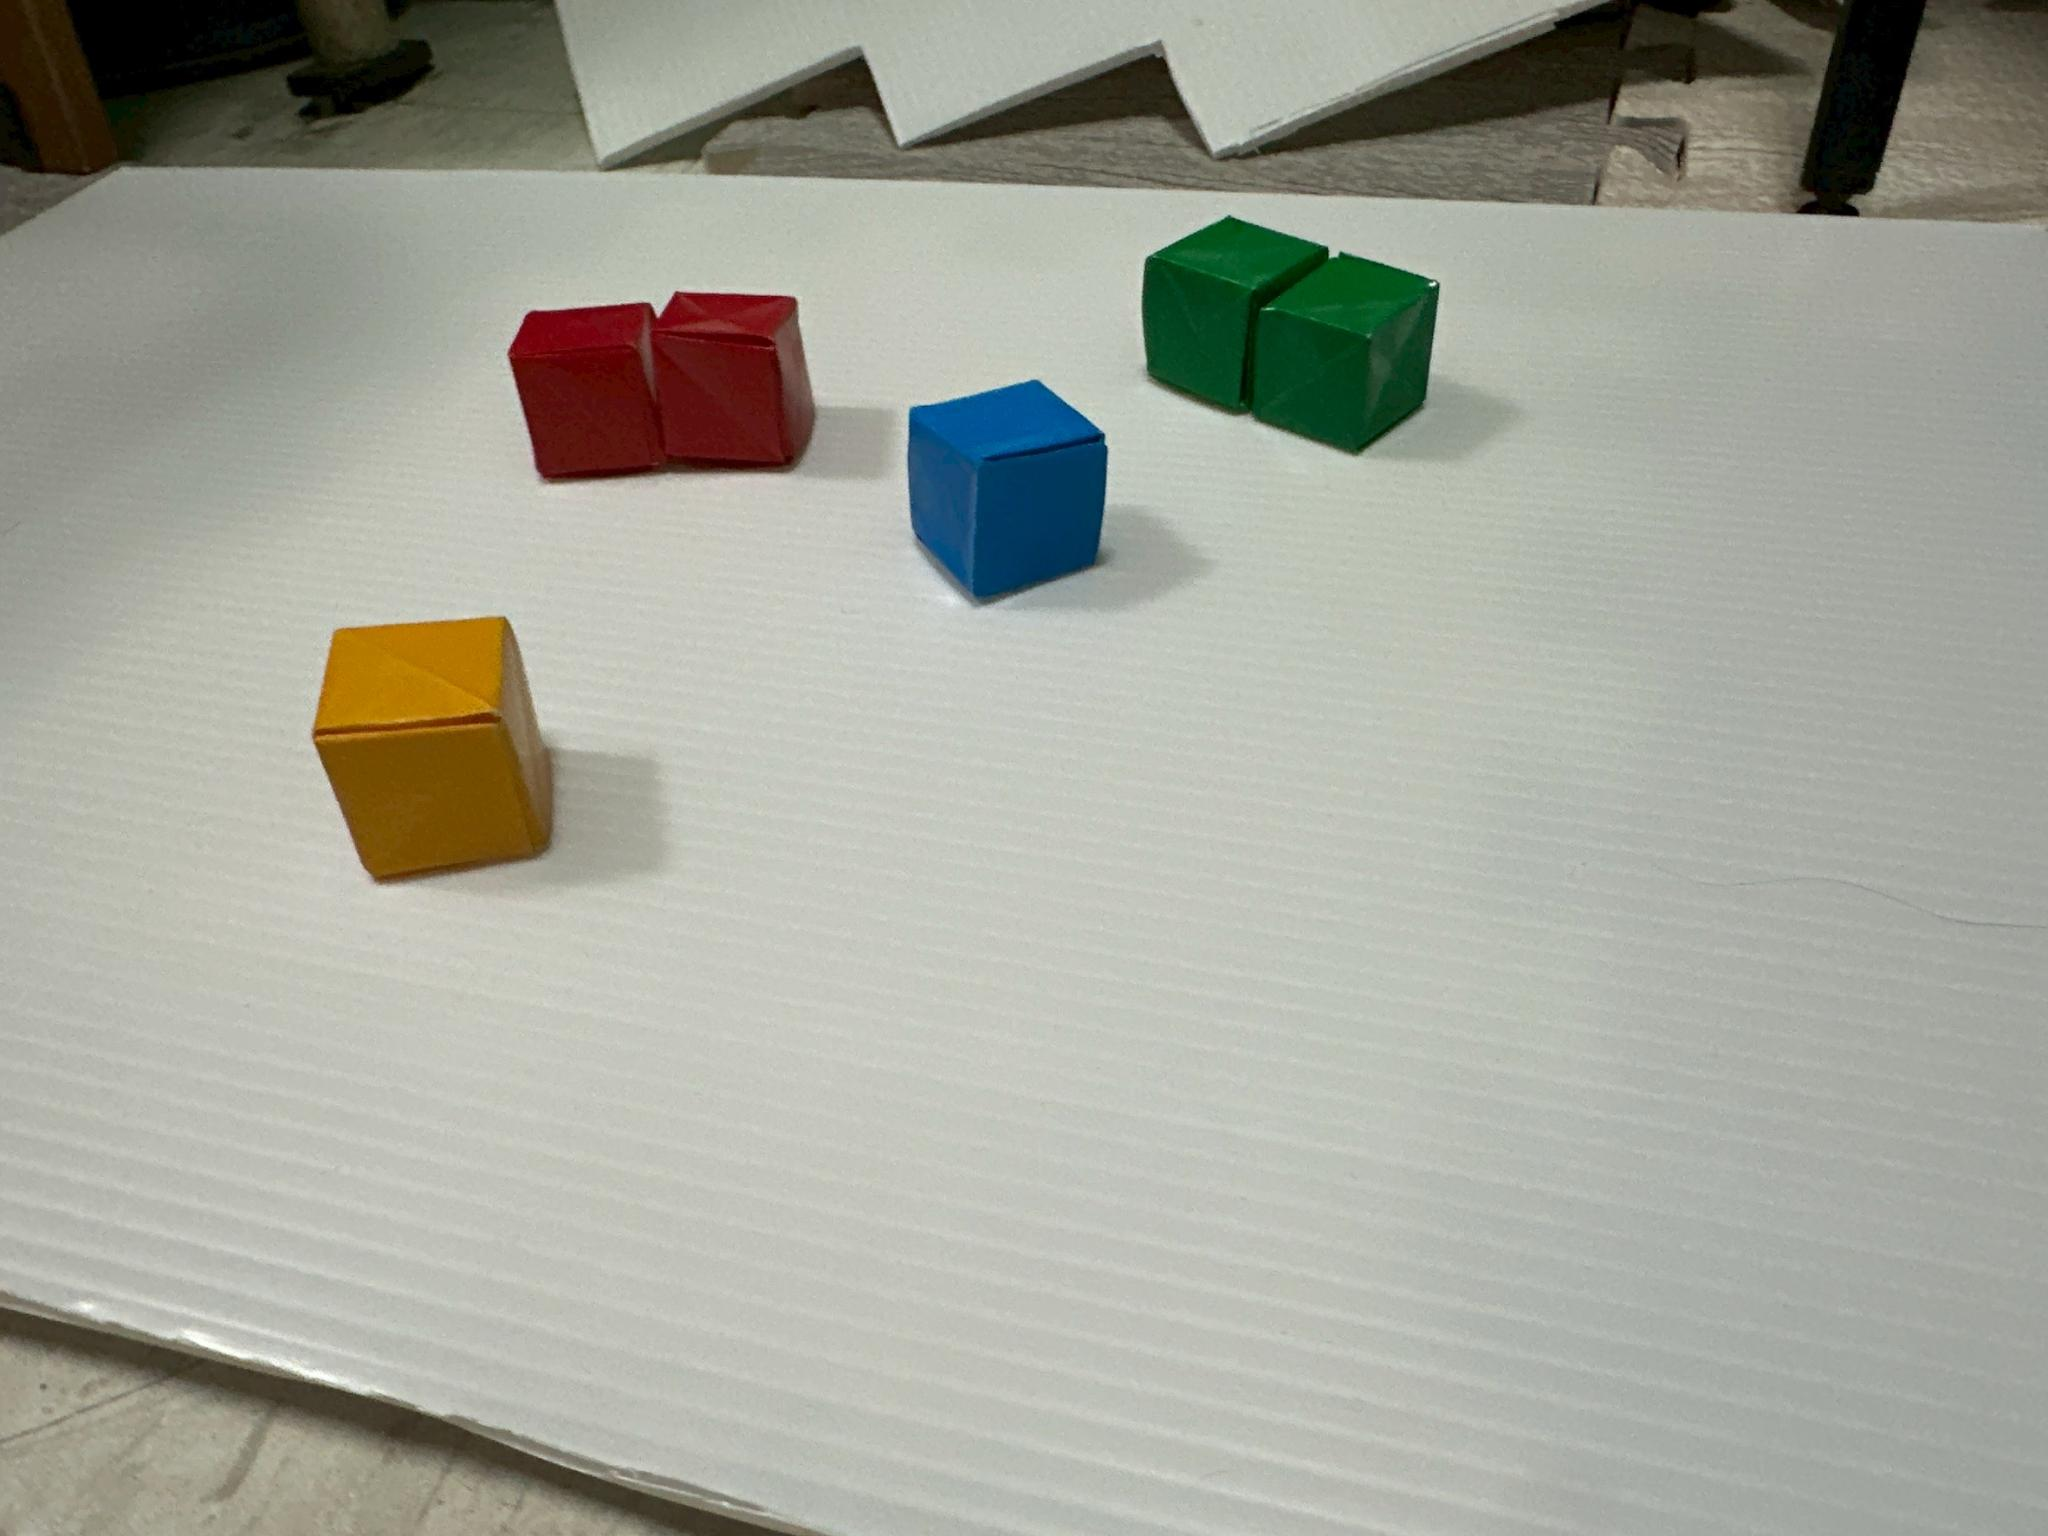cube: (313, 620, 552, 881), (908, 381, 1108, 600), (1247, 253, 1437, 453), (1143, 216, 1327, 408), (651, 292, 813, 466), (508, 303, 666, 479)
